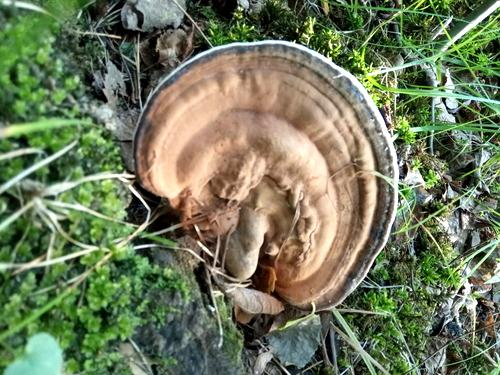Ganoderma - Fruit Body: (126, 38, 400, 322)
